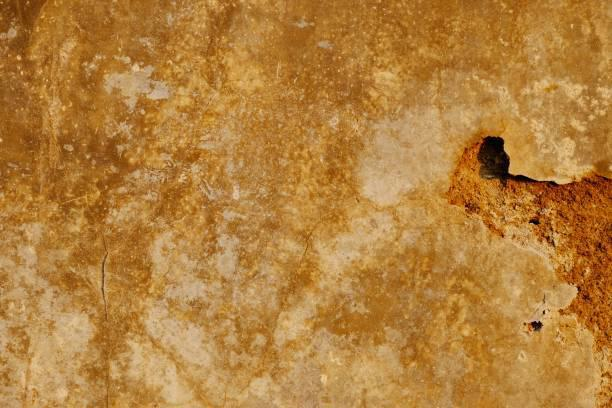Corrosion: (445, 133, 612, 408)
